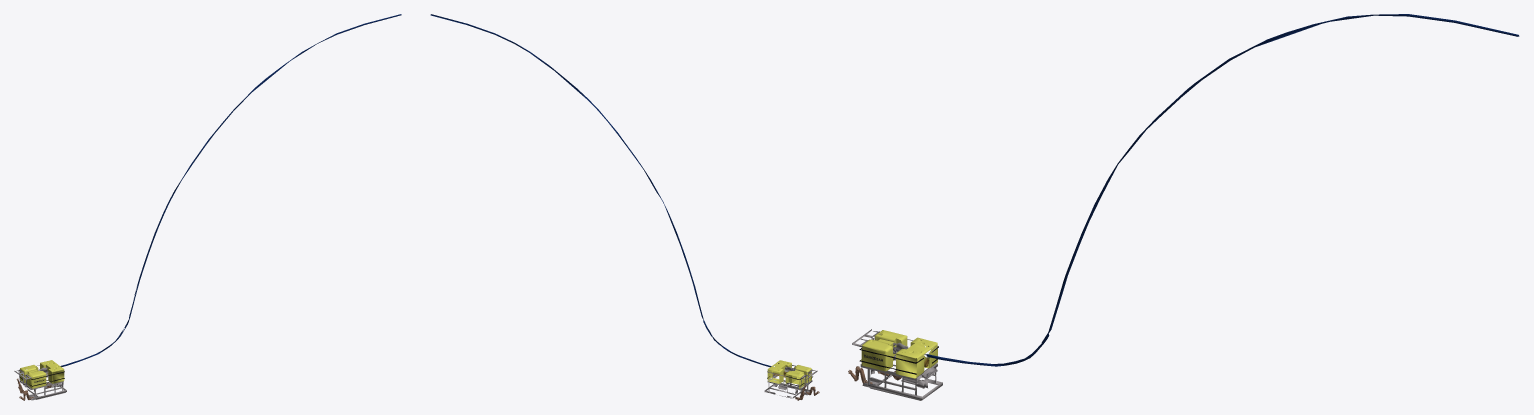
The model's file is rov.glb.
3 views of the same model, side by side, from view 1: azimuth 30°, elevation 25°; view 2: azimuth 150°, elevation 25°; view 3: azimuth 330°, elevation 25° (orthographic). The views are drawn at different scales.
Visible parts, largest first — view 1: EditedRov.002; view 2: EditedRov.002; view 3: EditedRov.002.
Part boxes in pixels (x1,y1,x2,y2): EditedRov.002: [14, 14, 401, 400]; EditedRov.002: [430, 14, 819, 400]; EditedRov.002: [848, 14, 1519, 400].
Bounding box in the file's own units: 314 × 227 × 19.06.
Materials: 1 (1 with a texture image).
